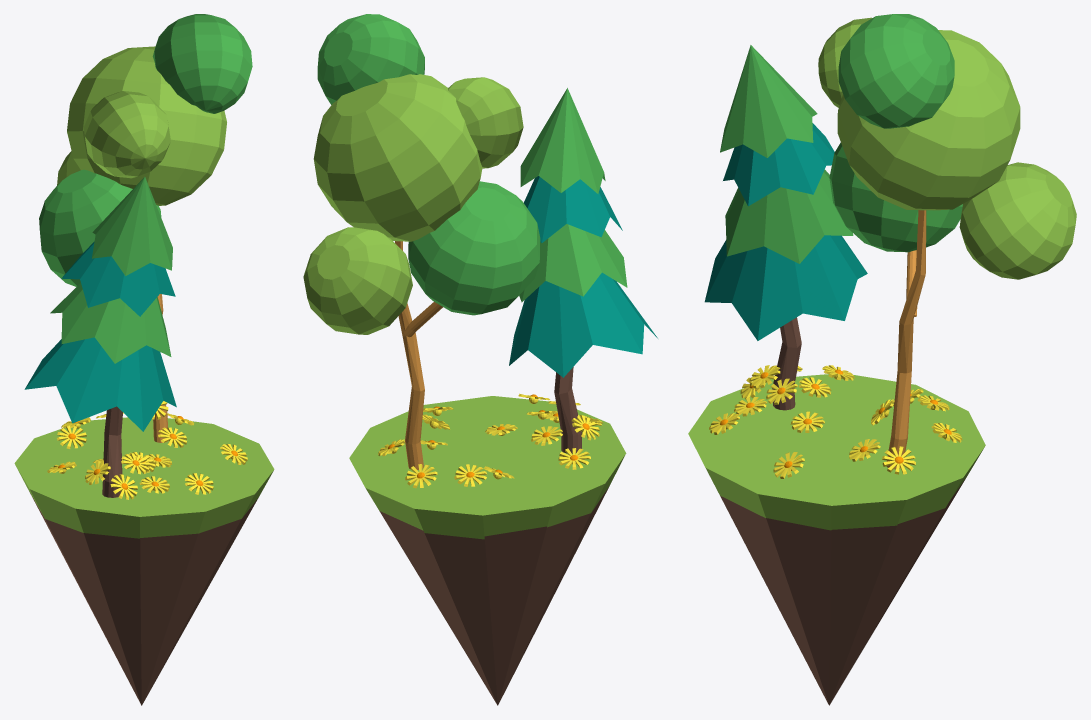
File: TwoTree.glb
3 renders of one model, left to right at view 1: azimuth 30°, elevation 25°; view 2: azimuth 150°, elevation 25°; view 3: azimuth 270°, elevation 25°, orthographic. The views are drawn at different scales.
Visible parts, largest first — view 1: group1417025955, group1456453523, group68856542, group1701856745, group23053643, group910432207, group1763764806, group2134159723, group1190759120, group1454638135, group860548694, group1365140907 (+3 smaller); view 2: group1417025955, group1456453523, group910432207, group699188109, group68856542, group1701856745, group2134159723, group1763764806, group23053643, group1190759120, group834066651, group1454638135; view 3: group1417025955, group1456453523, group1701856745, group68856542, group699188109, group1763764806, group2134159723, group910432207, group1190759120, group834066651, group23053643, group1454638135 (+1 smaller).
Boxes of the visible parts, left/top/right/bottom form: group1417025955: left=14, top=417, right=274, bottom=705; group1456453523: left=67, top=46, right=226, bottom=205; group68856542: left=24, top=337, right=176, bottom=431; group1701856745: left=152, top=14, right=252, bottom=113; group23053643: left=83, top=91, right=170, bottom=178; group910432207: left=39, top=169, right=161, bottom=286; group1763764806: left=50, top=283, right=171, bottom=363; group2134159723: left=92, top=177, right=172, bottom=275; group1190759120: left=61, top=241, right=175, bottom=316; group1454638135: left=102, top=406, right=122, bottom=497; group860548694: left=57, top=425, right=86, bottom=448; group1365140907: left=110, top=474, right=137, bottom=499; group1417025955: left=349, top=396, right=626, bottom=705; group1456453523: left=313, top=74, right=482, bottom=241; group910432207: left=408, top=181, right=540, bottom=315; group699188109: left=303, top=227, right=412, bottom=334; group68856542: left=509, top=272, right=657, bottom=377; group1701856745: left=317, top=14, right=424, bottom=104; group2134159723: left=520, top=88, right=605, bottom=193; group1763764806: left=519, top=224, right=627, bottom=302; group23053643: left=448, top=77, right=523, bottom=168; group1190759120: left=524, top=176, right=622, bottom=242; group834066651: left=395, top=241, right=424, bottom=469; group1454638135: left=554, top=367, right=581, bottom=453; group1417025955: left=688, top=374, right=985, bottom=705; group1456453523: left=837, top=30, right=1020, bottom=210; group1701856745: left=838, top=14, right=954, bottom=128; group68856542: left=704, top=235, right=867, bottom=340; group699188109: left=959, top=162, right=1076, bottom=279; group1763764806: left=725, top=169, right=853, bottom=263; group2134159723: left=720, top=45, right=817, bottom=157; group910432207: left=829, top=142, right=962, bottom=252; group1190759120: left=723, top=123, right=834, bottom=206; group834066651: left=886, top=210, right=926, bottom=469; group23053643: left=818, top=17, right=871, bottom=107; group1454638135: left=772, top=317, right=801, bottom=410.
Size of the model in its own units: 0.6111 by 1.45 by 0.6913.
